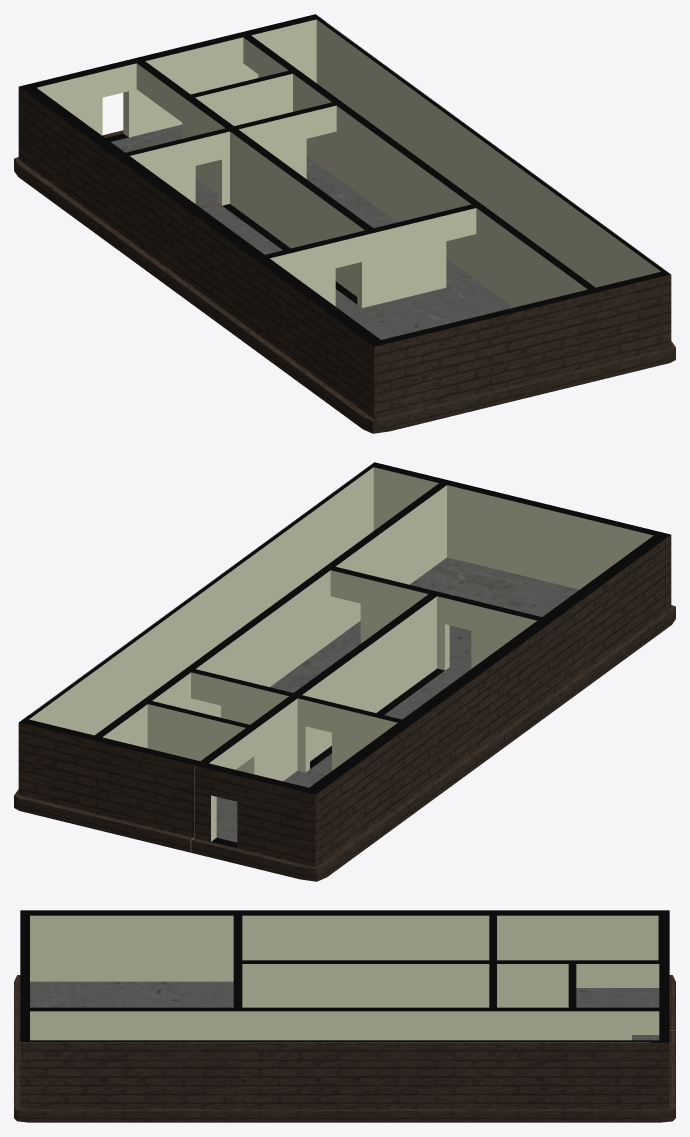
Rendered from Final_Apartment.fbx.
3 renders of one model, top to bottom at view 1: azimuth 30°, elevation 25°; view 2: azimuth 150°, elevation 25°; view 3: azimuth 270°, elevation 25°, orthographic. The views are drawn at different scales.
Parts seen in each view (by area): view 1: Aparment; view 2: Aparment; view 3: Aparment.
Part boxes in pixels (left/top/right/bottom): Aparment: left=14, top=14, right=675, bottom=433; Aparment: left=14, top=462, right=675, bottom=881; Aparment: left=14, top=910, right=675, bottom=1122.
Bounding box in the file's own units: 2507 × 658 × 5095.
